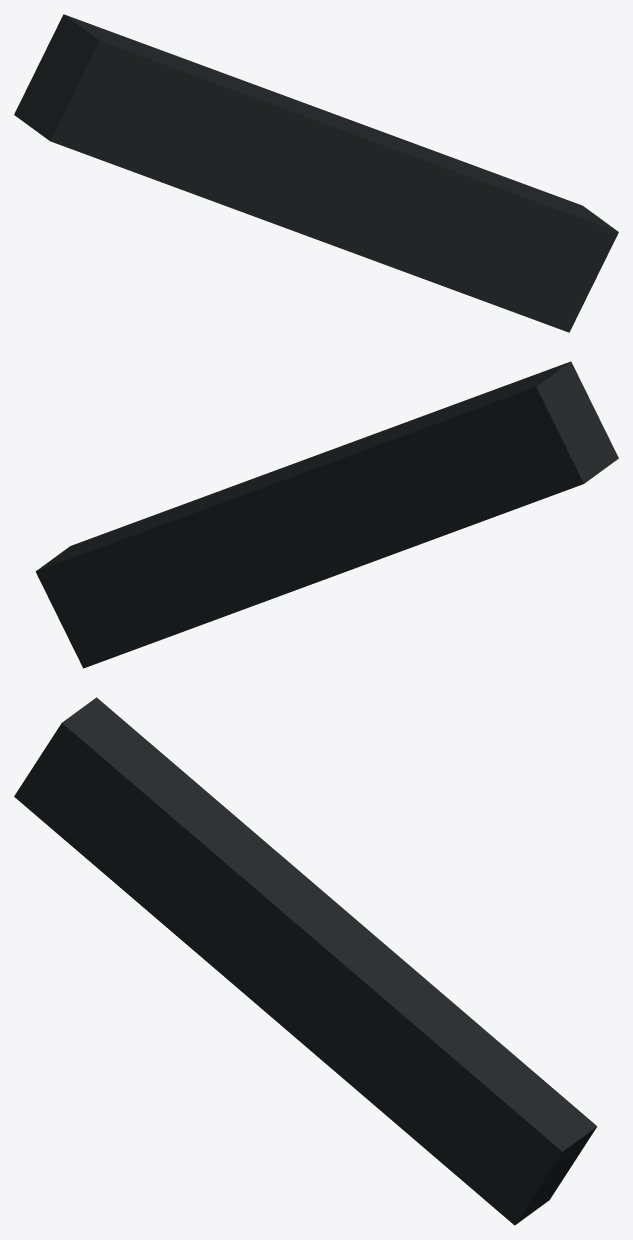
The model's file is SM_Gen_Prop_Clock_01_Hand_01.obj.
3 renders of one model, top to bottom at view 1: azimuth 30°, elevation 25°; view 2: azimuth 150°, elevation 25°; view 3: azimuth 330°, elevation 25°, orthographic. The views are drawn at different scales.
Parts seen in each view (by area): view 1: SM_Gen_Prop_Clock_01_Hand_01_0; view 2: SM_Gen_Prop_Clock_01_Hand_01_0; view 3: SM_Gen_Prop_Clock_01_Hand_01_0.
Boxes of the visible parts, bbox=[...] form: SM_Gen_Prop_Clock_01_Hand_01_0: bbox=[14, 14, 618, 332]; SM_Gen_Prop_Clock_01_Hand_01_0: bbox=[35, 361, 618, 668]; SM_Gen_Prop_Clock_01_Hand_01_0: bbox=[14, 697, 597, 1225].
Size of the model in its own units: 0.118 by 0.0776 by 0.0125.
Materials: 1 (1 with a texture image).
